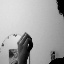o: (16, 31, 34, 59)
